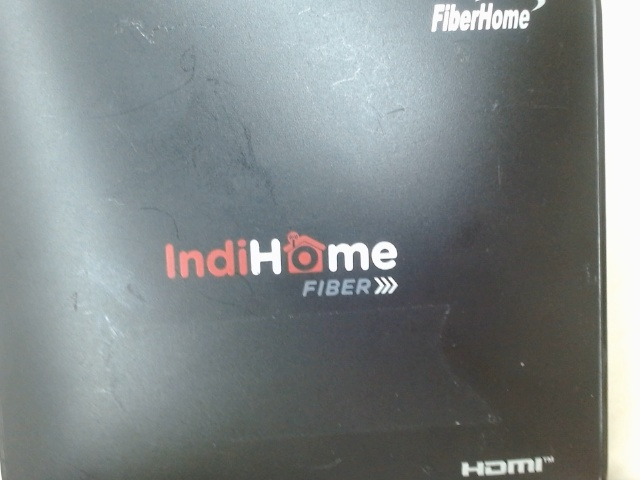AF_IndiHome: (149, 223, 411, 303)
